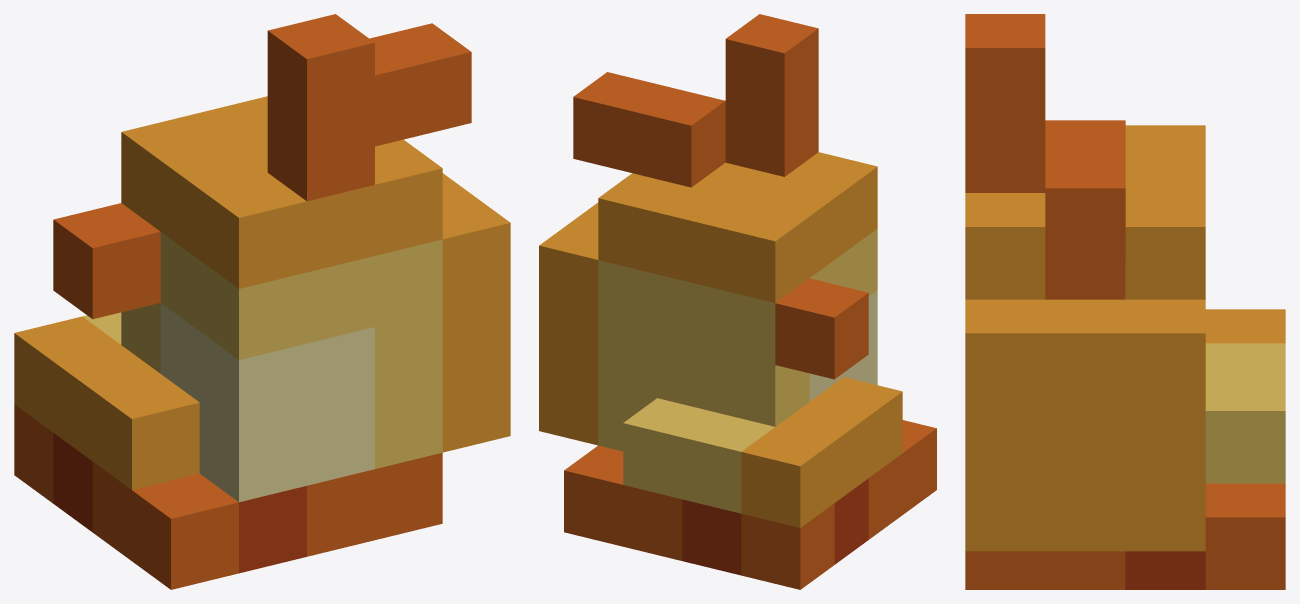
The model's file is flame_06.glb.
3 renders of one model, left to right at view 1: azimuth 30°, elevation 25°; view 2: azimuth 150°, elevation 25°; view 3: azimuth 270°, elevation 25°, orthographic. The views are drawn at different scales.
Parts seen in each view (by area): view 1: flame_06; view 2: flame_06; view 3: flame_06.
Boxes of the visible parts, x1,y1,x2,y2 form: flame_06: (14, 14, 510, 589); flame_06: (539, 14, 936, 589); flame_06: (965, 14, 1285, 589).
Size of the model in its own units: 0.625 by 0.875 by 0.5.
